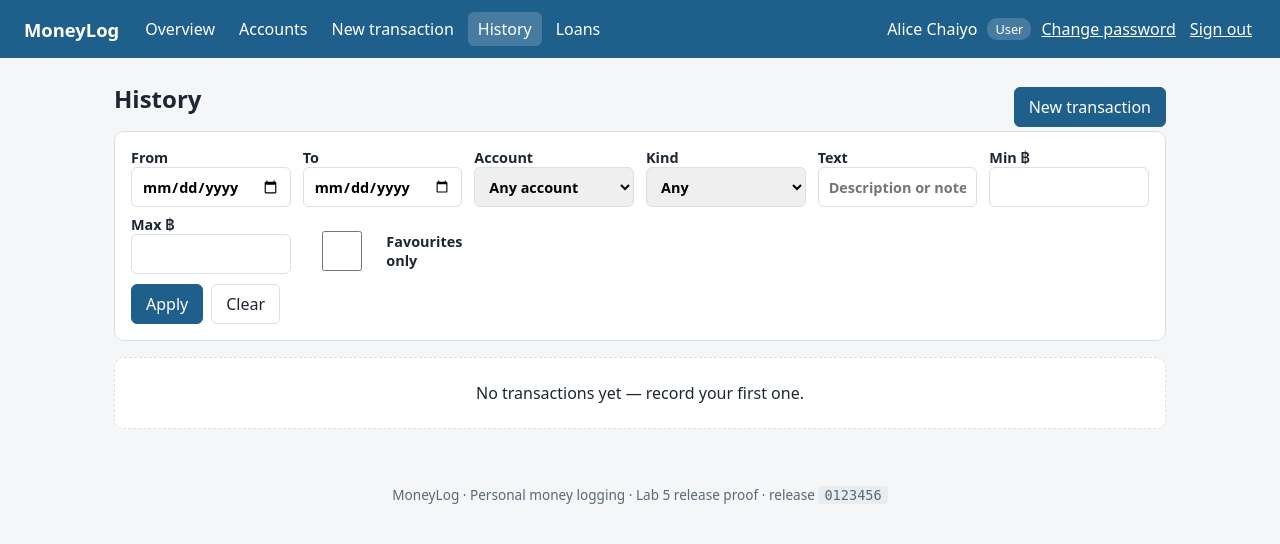
Scenario: TEST-86 filter bar and pager (AC-62) › blocks Apply while Min is above Max
Type "500" into the field labelled "Min ฿" at (1069, 187), box [989, 167, 1149, 207]
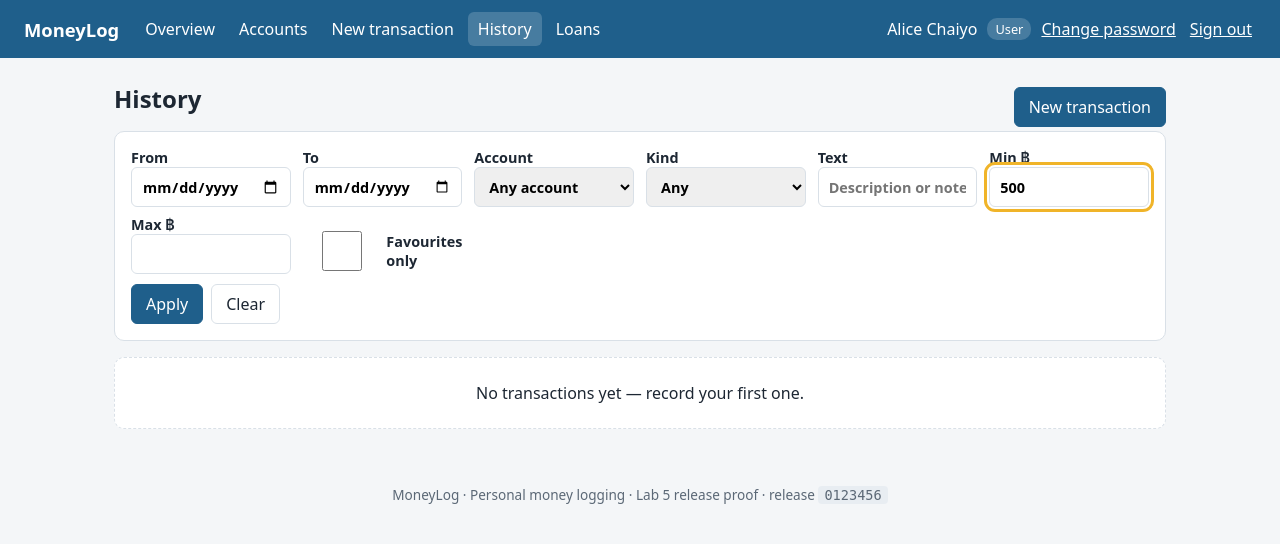
Type "100" into the field labelled "Max ฿" at (211, 254), box [131, 234, 291, 274]
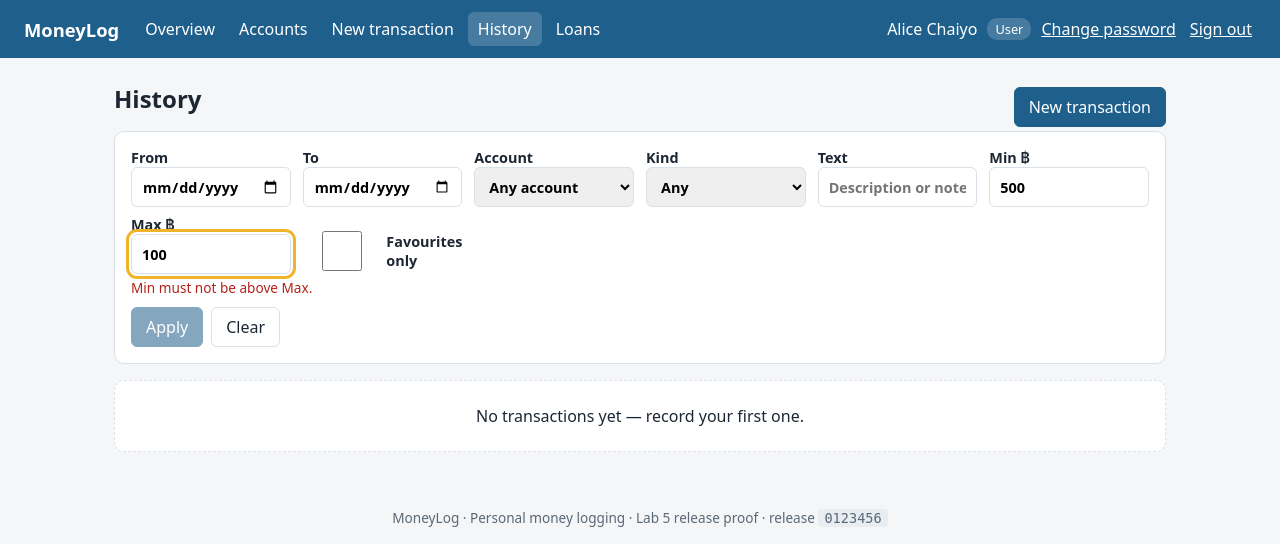
Check: the button "Apply" is disabled, box [131, 307, 203, 347]
Check: the text "Min must not be above Max." is shown, box [131, 278, 312, 297]
